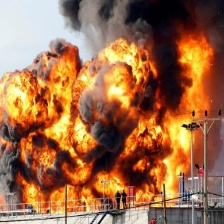fire: (8, 58, 201, 209)
smoke: (62, 1, 224, 61)
